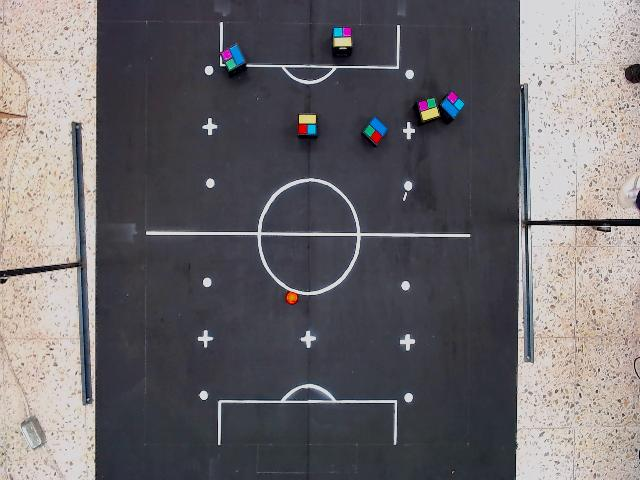robot: (361, 115, 389, 149), (219, 41, 248, 73), (440, 89, 467, 121), (415, 95, 442, 123), (296, 111, 318, 138), (330, 26, 355, 49)
